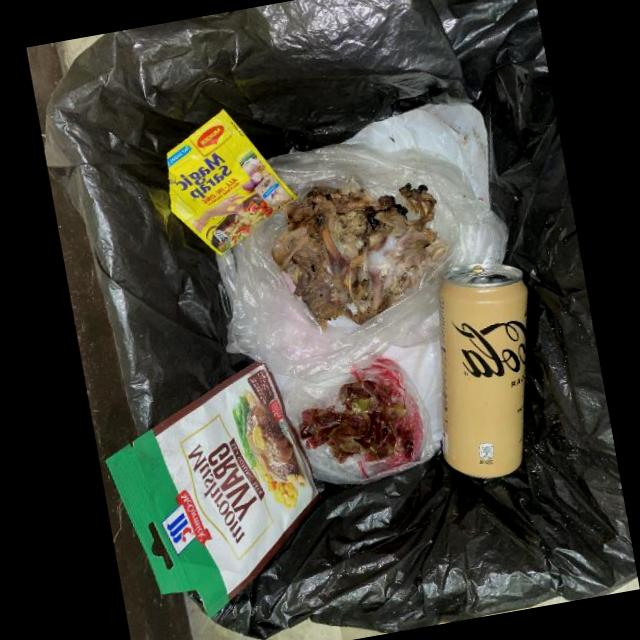goi_nhua_nho: (105, 359, 323, 614), (165, 108, 296, 254)
nhom: (438, 262, 528, 478)
thuc_an_thua: (271, 182, 448, 331)
tui_ni_long: (216, 143, 507, 377), (282, 357, 434, 484), (343, 102, 490, 207)
vo_trai_cay: (300, 379, 414, 465)
